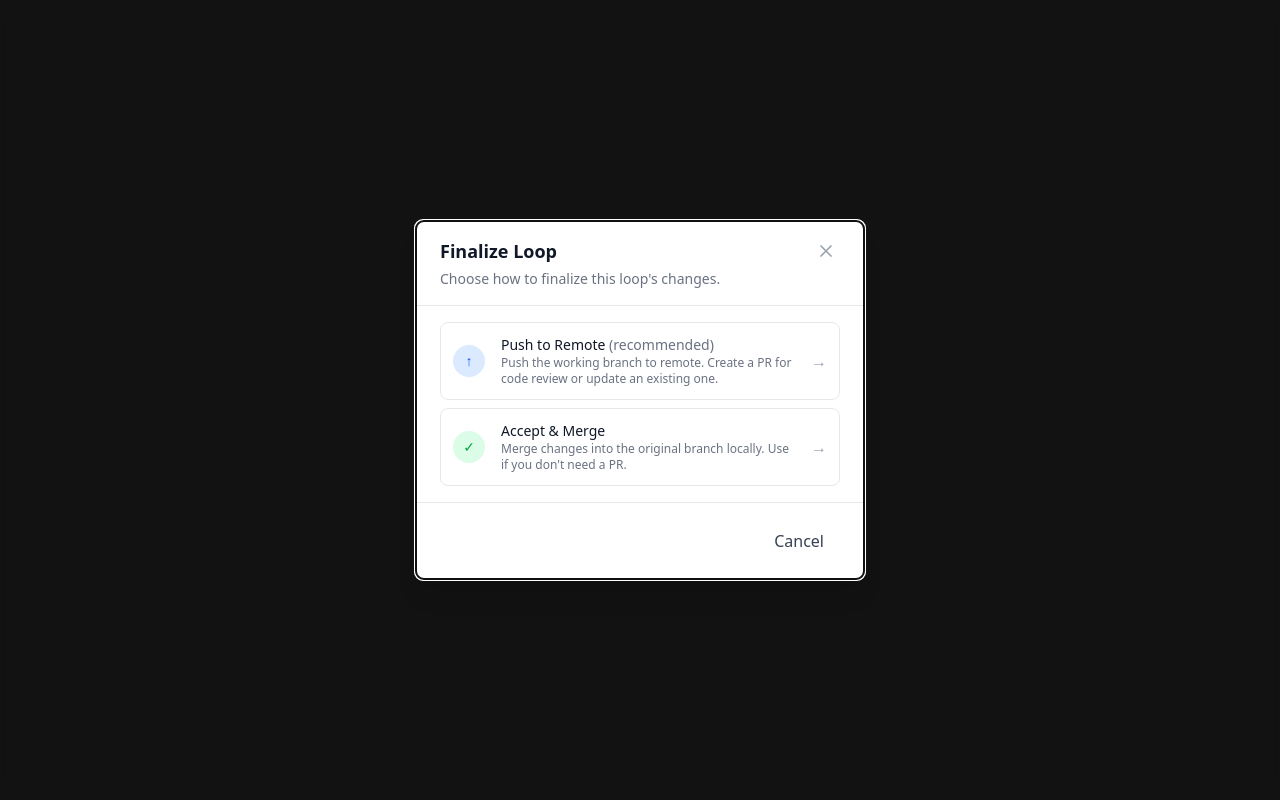
Test: AcceptLoopModal › loading state › disables buttons while accepting
The image size is (1280, 800).
Click the button "Accept & Merge": [640, 447] box [440,408,840,486]
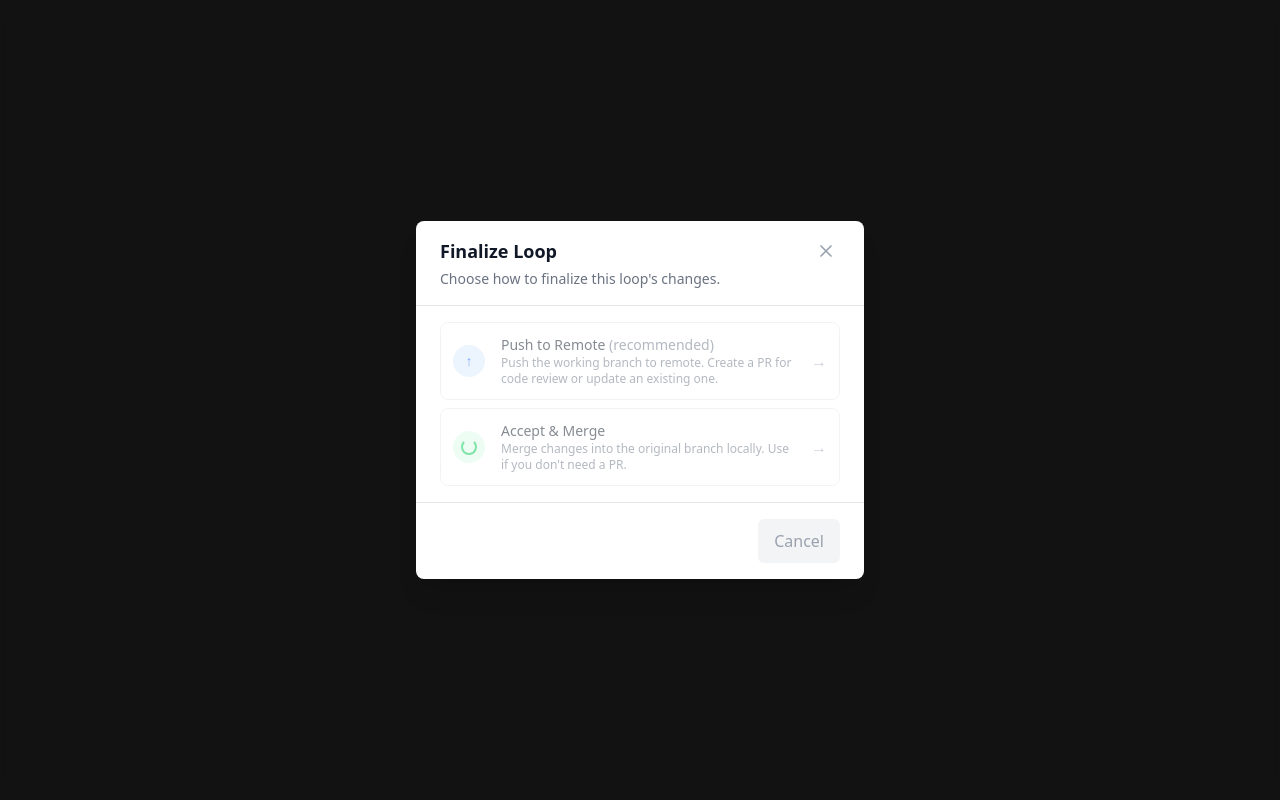
Expected: the button "Push to Remote" is disabled, [440,322,840,400]
Expected: the button "Accept & Merge" is disabled, [440,408,840,486]
